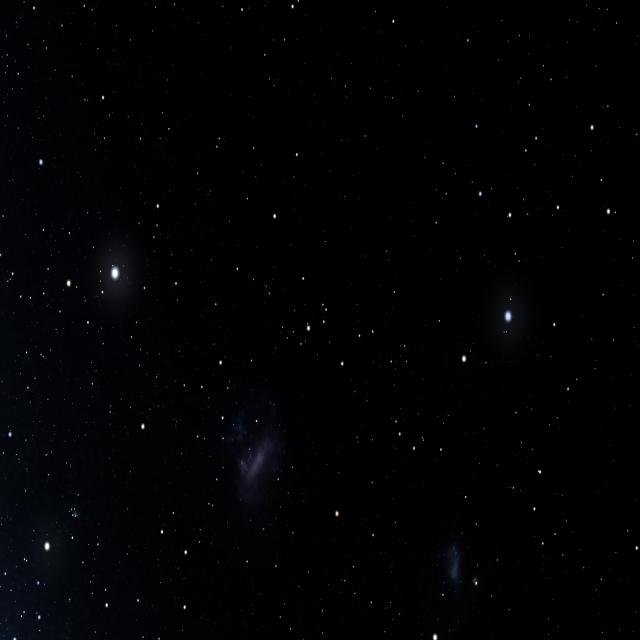Reticulum: (286, 260, 358, 376)
